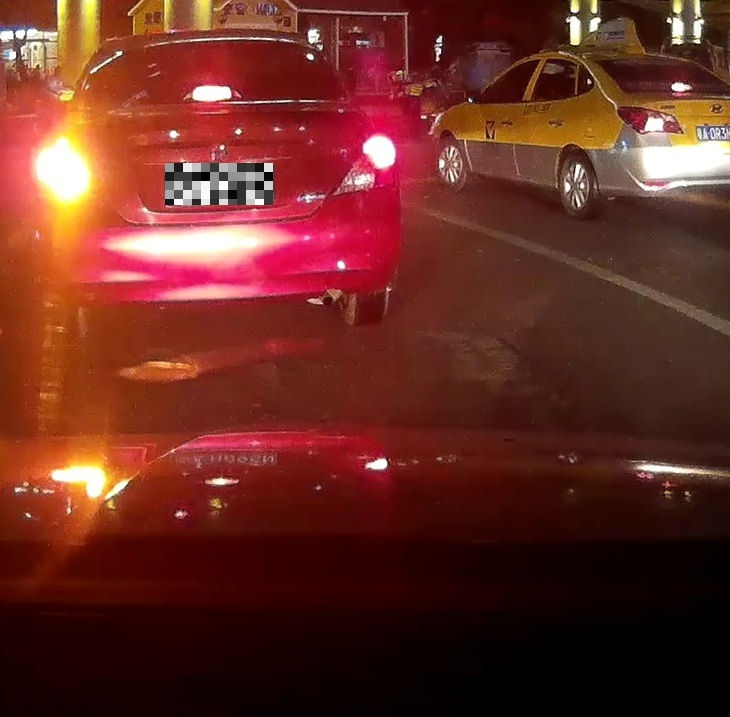L_light: (47, 142, 102, 204)
R_light: (329, 131, 398, 194)
T_light: (192, 85, 231, 102)
night-left: (44, 27, 403, 340)
plate_1: (165, 163, 273, 205)
